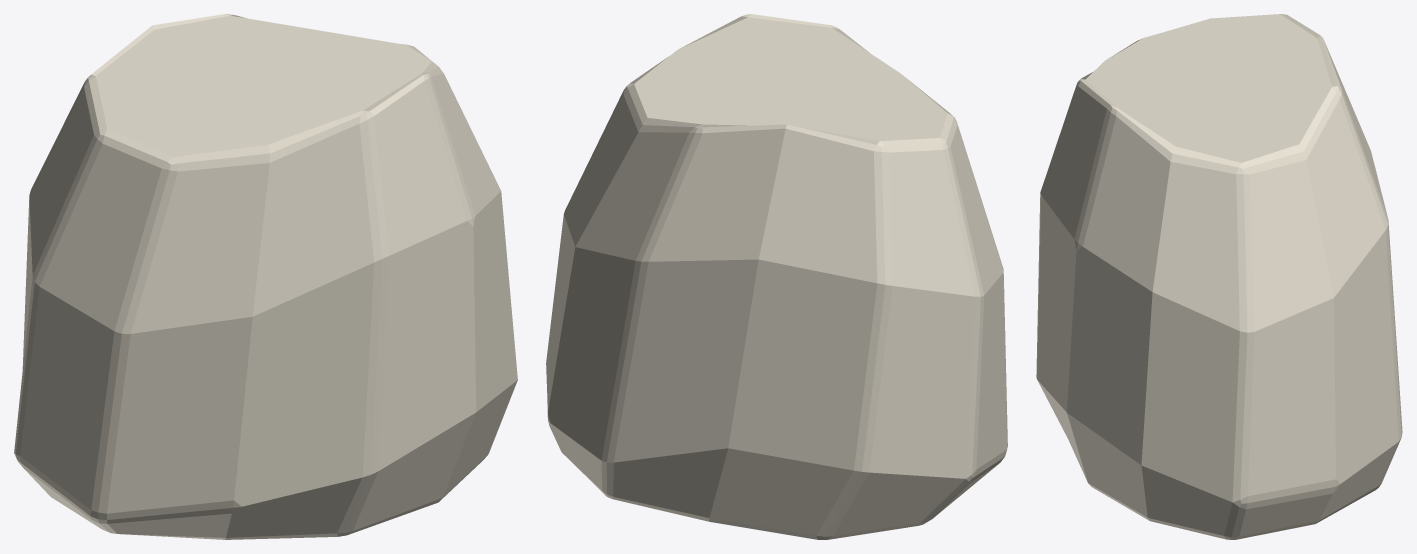
Rendered from Test_CheonRef_RockA.fbx.
3 renders of one model, left to right at view 1: azimuth 30°, elevation 25°; view 2: azimuth 150°, elevation 25°; view 3: azimuth 270°, elevation 25°, orthographic. The views are drawn at different scales.
Visible parts, largest first — view 1: BroadGraniteRock; view 2: BroadGraniteRock; view 3: BroadGraniteRock.
Part boxes in pixels (left/top/right/bottom): BroadGraniteRock: left=14, top=14, right=517, bottom=539; BroadGraniteRock: left=546, top=14, right=1007, bottom=539; BroadGraniteRock: left=1036, top=14, right=1402, bottom=539.
Bounding box in the file's own units: 277 × 237 × 205.
